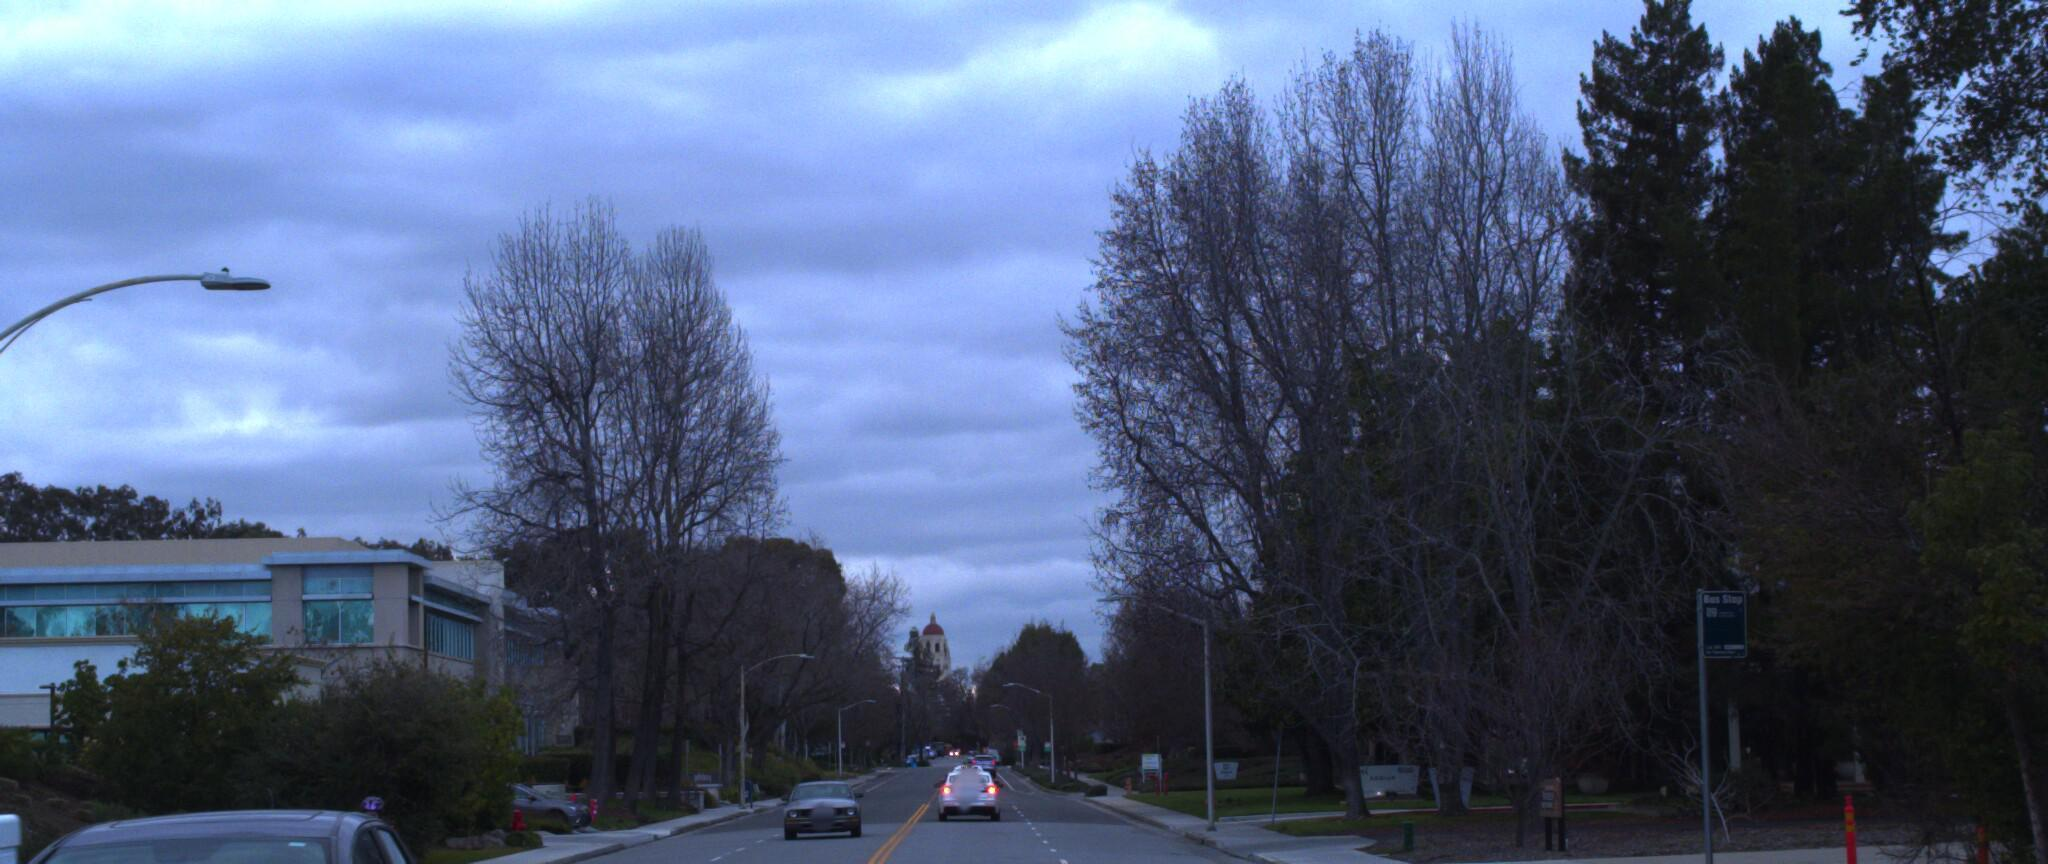bicycle: (290, 790, 404, 864)
car: (0, 600, 234, 864), (0, 797, 485, 864), (776, 764, 865, 834)
